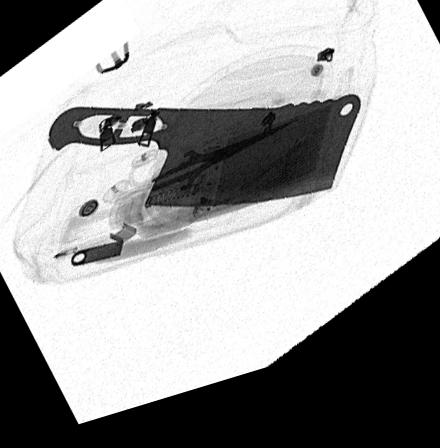Knife: (48, 110, 359, 220)
Powerbank: (178, 124, 338, 233)
Scissors: (121, 134, 305, 232)
